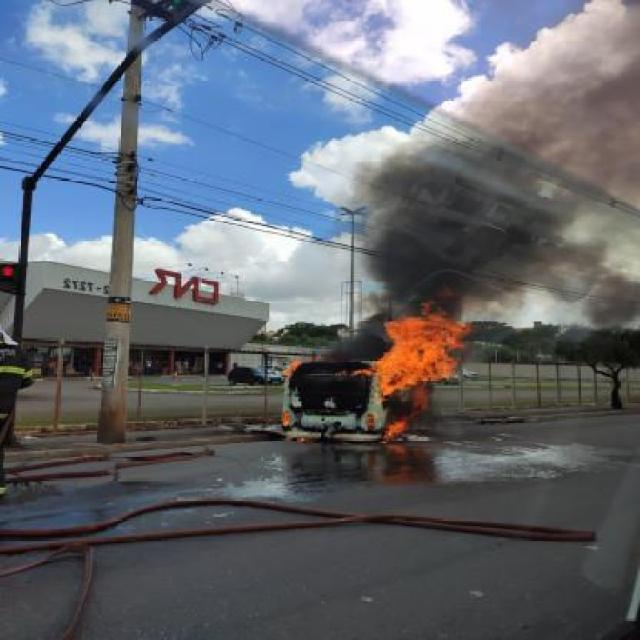Fire: (366, 315, 468, 398), (385, 416, 410, 438), (283, 360, 302, 377), (281, 412, 290, 426)
Smoke: (363, 155, 568, 300), (583, 270, 639, 326), (566, 239, 608, 272)
